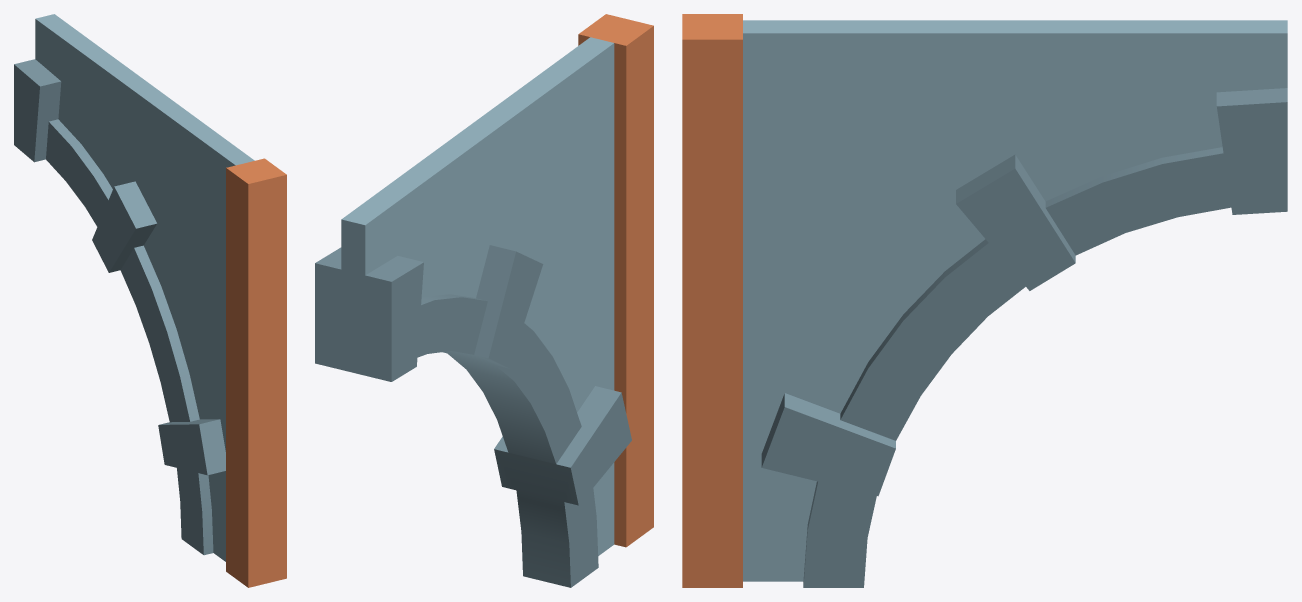
File: wallArchTopDetail.obj
3 views of the same model, side by side, from view 1: azimuth 30°, elevation 25°; view 2: azimuth 150°, elevation 25°; view 3: azimuth 270°, elevation 25° (orthographic). The views are drawn at different scales.
Parts seen in each view (by area): view 1: wallArchTopDetail; view 2: wallArchTopDetail; view 3: wallArchTopDetail.
Part boxes in pixels (x1=…): wallArchTopDetail: x1=14, y1=14, x2=286, y2=587; wallArchTopDetail: x1=315, y1=14, x2=653, y2=587; wallArchTopDetail: x1=682, y1=14, x2=1287, y2=587.
Size of the model in its own units: 0.16 by 1 by 1.
